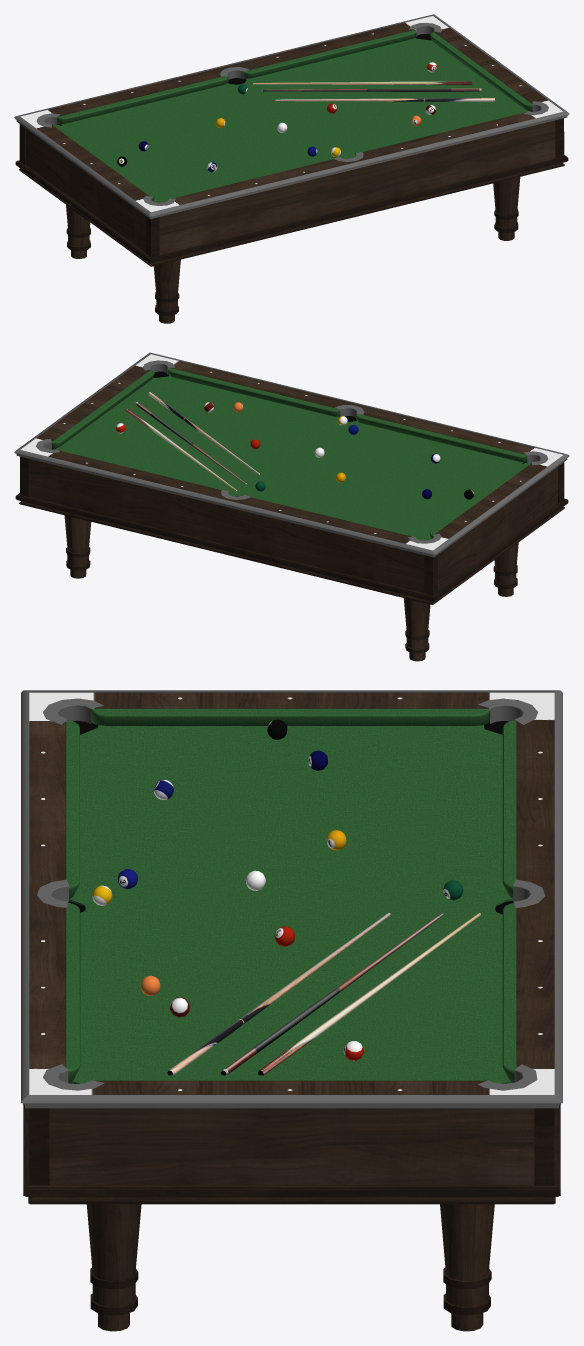
The model's file is Billiards_Table.fbx.
3 renders of one model, top to bottom at view 1: azimuth 30°, elevation 25°; view 2: azimuth 150°, elevation 25°; view 3: azimuth 270°, elevation 25°, orthographic. The views are drawn at different scales.
Visible parts, largest first — view 1: Billiard_Wood, Billiards_GreenBoard, Billiard_Metal, Billiard_Stick1, Billiard_Stick2, Billiard_Stick3; view 2: Billiard_Wood, Billiards_GreenBoard, Billiard_Metal, Billiard_Stick2, Billiard_Stick1, Billiard_Stick3; view 3: Billiards_GreenBoard, Billiard_Wood, Billiard_Metal, Billiard_Stick1, Billiard_Stick2, Billiard_Stick3.
Part boxes in pixels (x1,y1,x2,y2): Billiard_Wood: [15, 16, 568, 323]; Billiards_GreenBoard: [53, 29, 532, 202]; Billiard_Metal: [14, 14, 569, 219]; Billiard_Stick1: [275, 98, 494, 101]; Billiard_Stick2: [262, 88, 481, 91]; Billiard_Stick3: [252, 81, 472, 84]; Billiard_Wood: [15, 354, 568, 661]; Billiards_GreenBoard: [52, 367, 531, 540]; Billiard_Metal: [14, 352, 569, 557]; Billiard_Stick2: [135, 402, 246, 484]; Billiard_Stick1: [148, 392, 259, 474]; Billiard_Stick3: [125, 408, 237, 491]; Billiards_GreenBoard: [66, 708, 516, 1084]; Billiard_Wood: [23, 692, 560, 1331]; Billiard_Metal: [21, 690, 562, 1108]; Billiard_Stick1: [167, 913, 390, 1075]; Billiard_Stick2: [220, 913, 443, 1075]; Billiard_Stick3: [258, 913, 480, 1075].
Size of the model in its own units: 274 by 83.66 by 153.
Materials: 18 (17 with a texture image).
